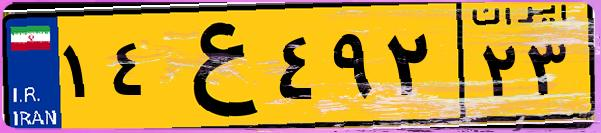1: (57, 26, 110, 100)
2: (385, 28, 445, 110), (475, 38, 525, 113)
3: (525, 38, 570, 115)
4: (270, 28, 330, 110), (110, 28, 158, 98)
9: (330, 28, 385, 110)
ع: (158, 12, 270, 120)
